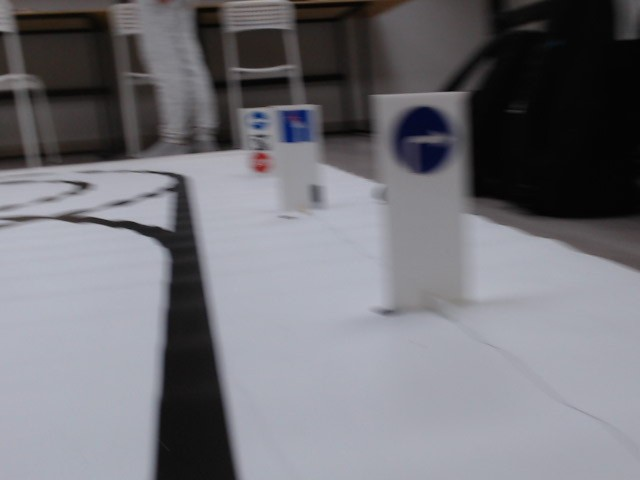Right: (392, 105, 454, 172)
